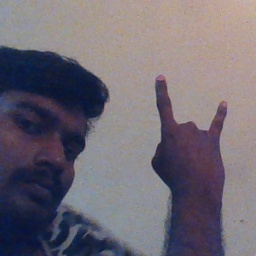V: (145, 71, 236, 198)
